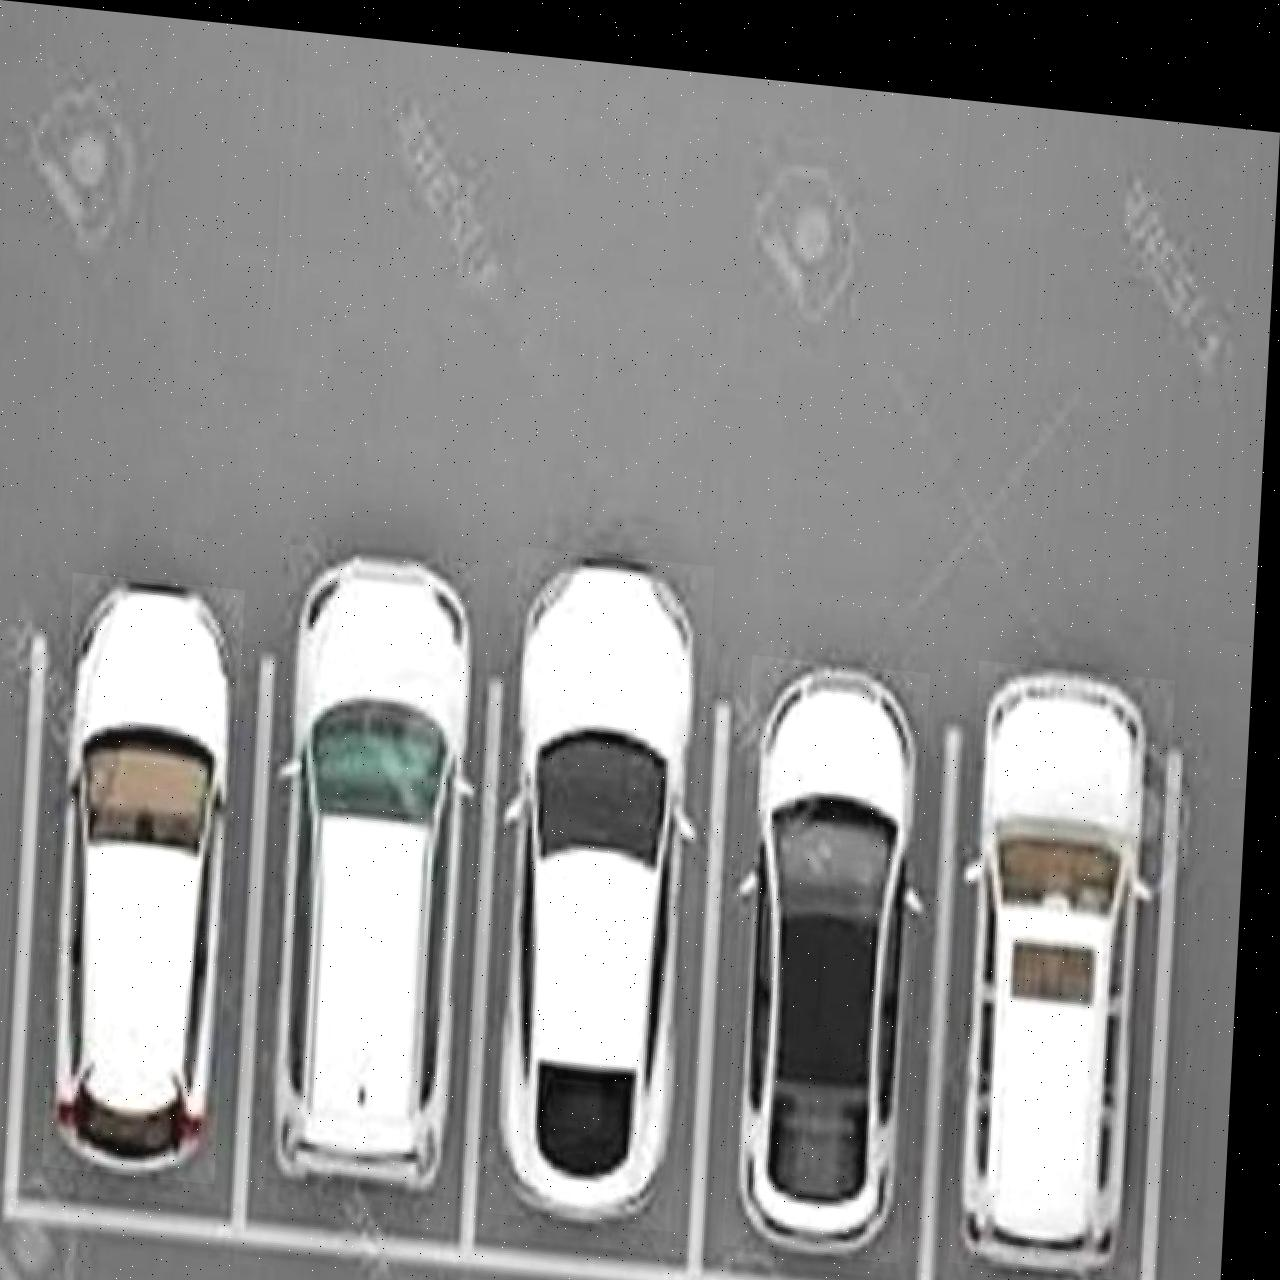car: (497, 535, 720, 1217), (270, 538, 495, 1186), (961, 639, 1182, 1257), (735, 638, 937, 1242), (55, 571, 251, 1178)
